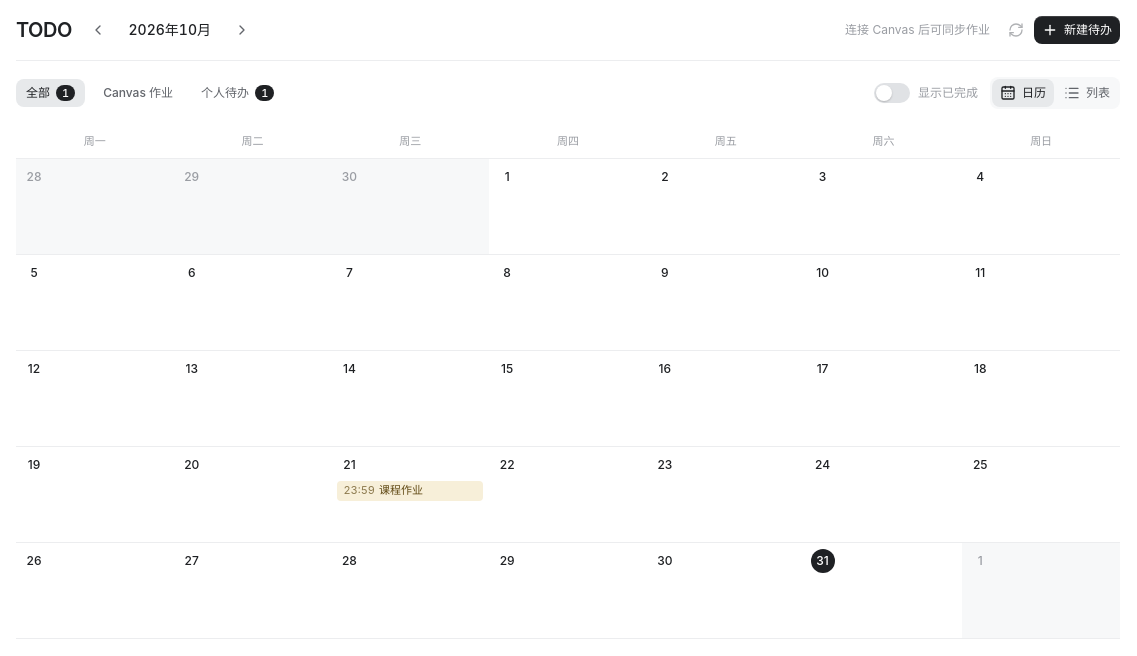
Test: TODO 视图 › 默认显示月历，无截止日期数量常驻筛选页签，可切换列表查看
This screenshot has width=1137, height=656.
Expected: the button "全部 1" is shown, [16,79,85,107]
Expected: the button does not show "1"
What coordinates should you click on to do the following:
click the button "列表"
I would click on:
 (1087, 93)
Its box is [1056,79,1118,107].
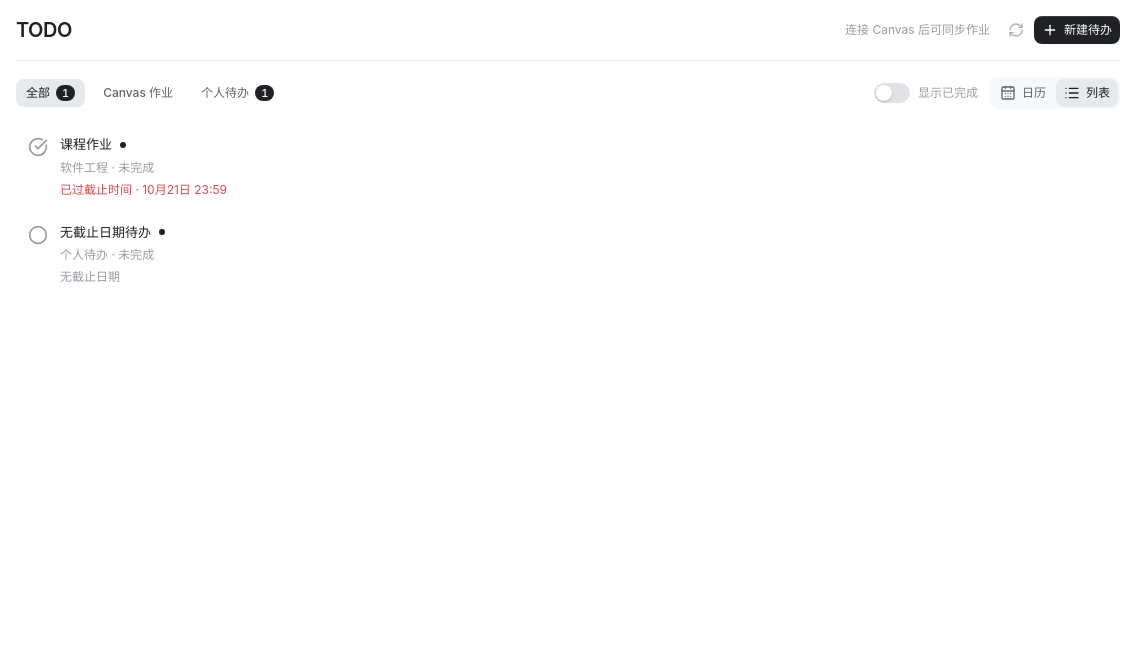
Expected: the text "课程作业" is shown, [60,135,112,154]
Result: the element named "待办日历" is gone
Result: the text "无截止日期待办" is shown at [60,222,151,242]
